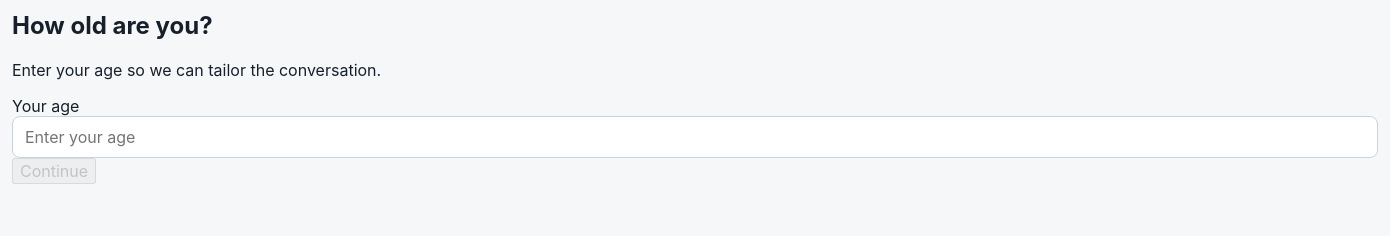
Test: shows an error message when the request fails
Type "10" into the number field labelled "Your age" at [695, 137], box top-left (12, 116), bottom-right (1378, 158)
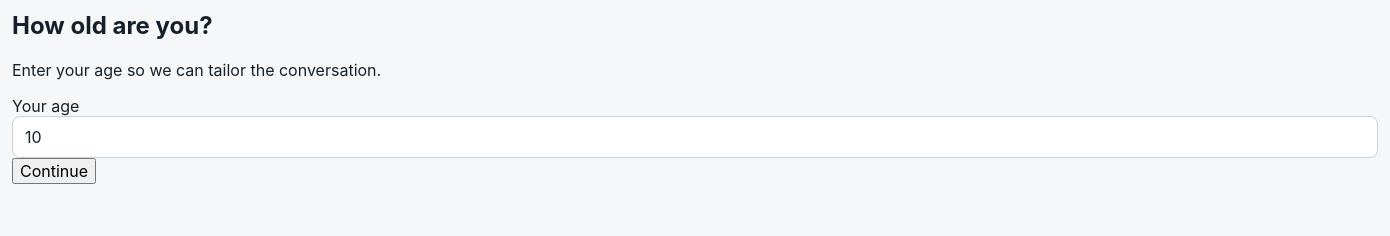
Click the button "Continue" at [54, 171], box top-left (12, 158), bottom-right (96, 184)
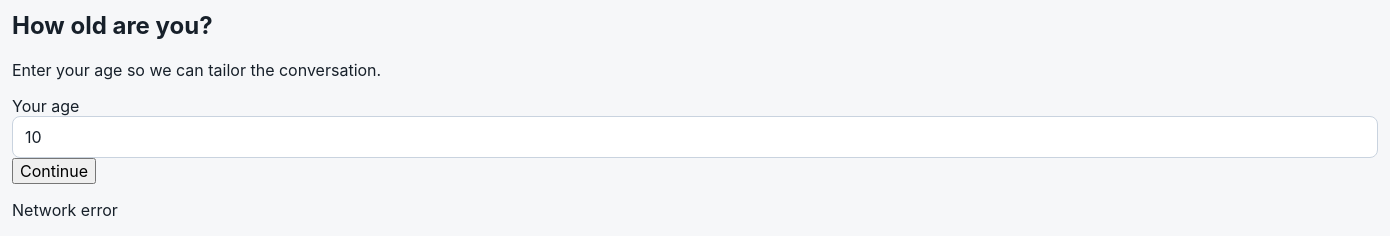
expect the message reads "Network error": met, box top-left (12, 200), bottom-right (118, 220)
